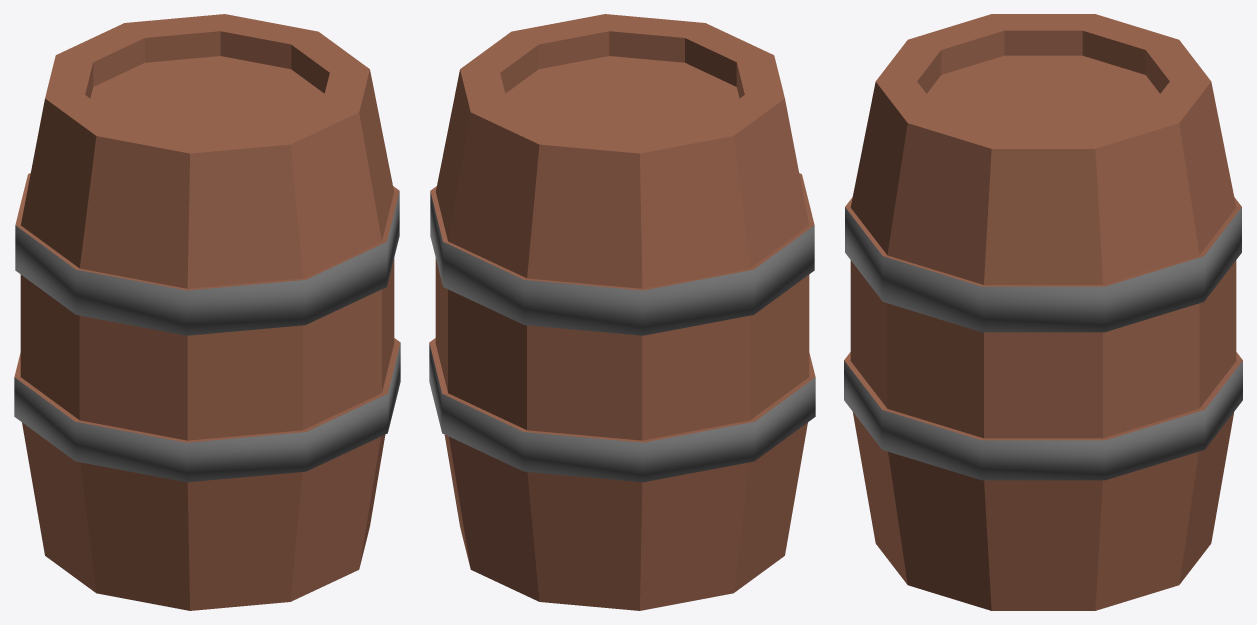
The model's file is fass.fbx.
3 views of the same model, side by side, from view 1: azimuth 30°, elevation 25°; view 2: azimuth 150°, elevation 25°; view 3: azimuth 270°, elevation 25° (orthographic).
Parts seen in each view (by area): view 1: Cylinder; view 2: Cylinder; view 3: Cylinder.
Boxes of the visible parts, bbox=[...] form: Cylinder: bbox=[14, 14, 400, 610]; Cylinder: bbox=[429, 14, 815, 610]; Cylinder: bbox=[844, 14, 1242, 610].
Size of the model in its own units: 226 by 304 by 238.
